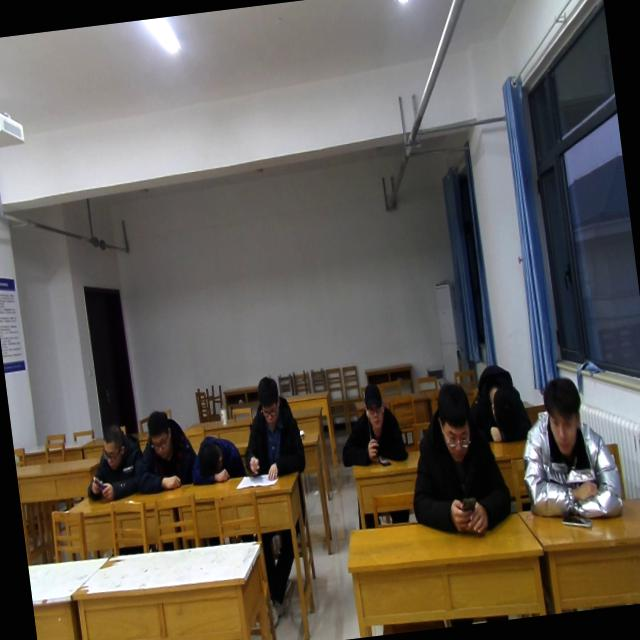bow: (510, 367, 630, 534), (125, 404, 202, 492), (465, 358, 535, 451), (78, 422, 148, 504), (186, 430, 246, 487)
down: (428, 373, 476, 467), (539, 372, 588, 458), (482, 380, 528, 445), (142, 408, 178, 462), (250, 371, 282, 430), (95, 420, 126, 471)
lookup: (359, 377, 388, 434)
sit: (400, 377, 515, 544), (234, 371, 307, 486), (332, 380, 407, 473)
